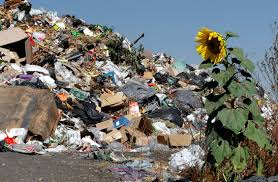garbage: (29, 53, 199, 161), (4, 16, 124, 158), (1, 2, 58, 158)
